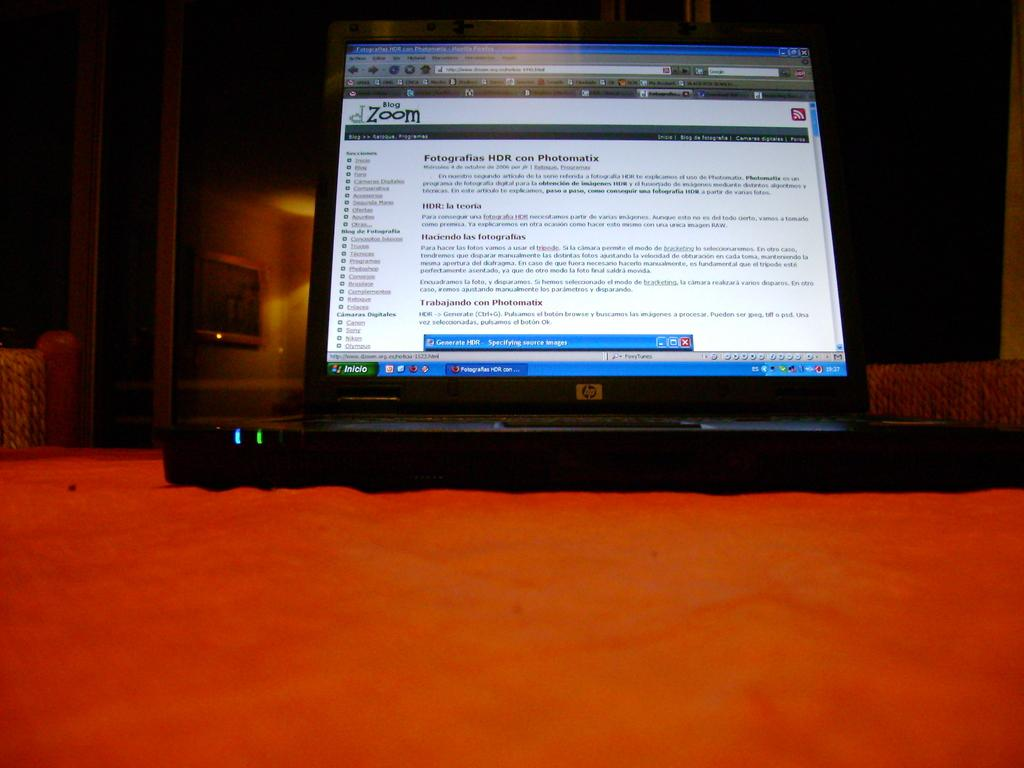Laptop: (156, 14, 1023, 486)
